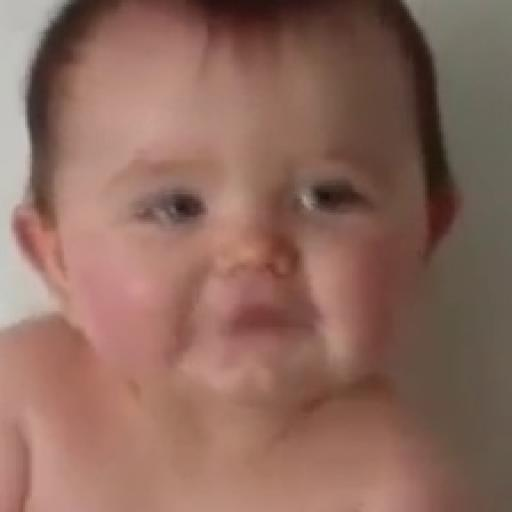Autism: (25, 11, 478, 467)
